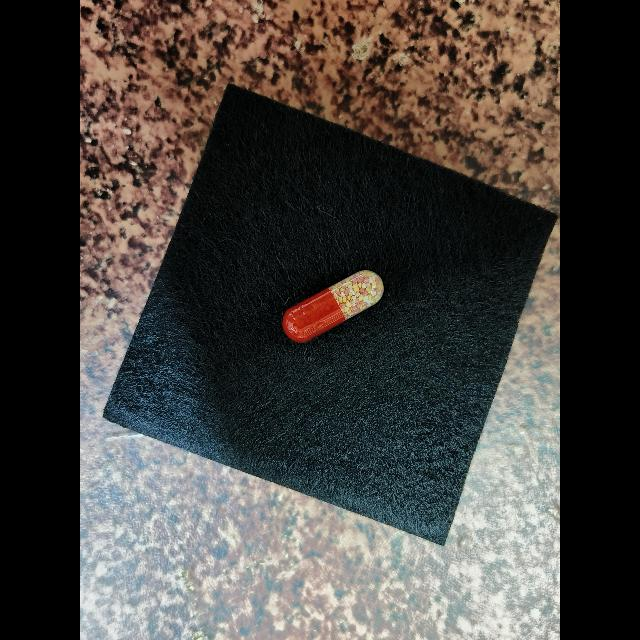Intact Capsule: (282, 270, 384, 343)
